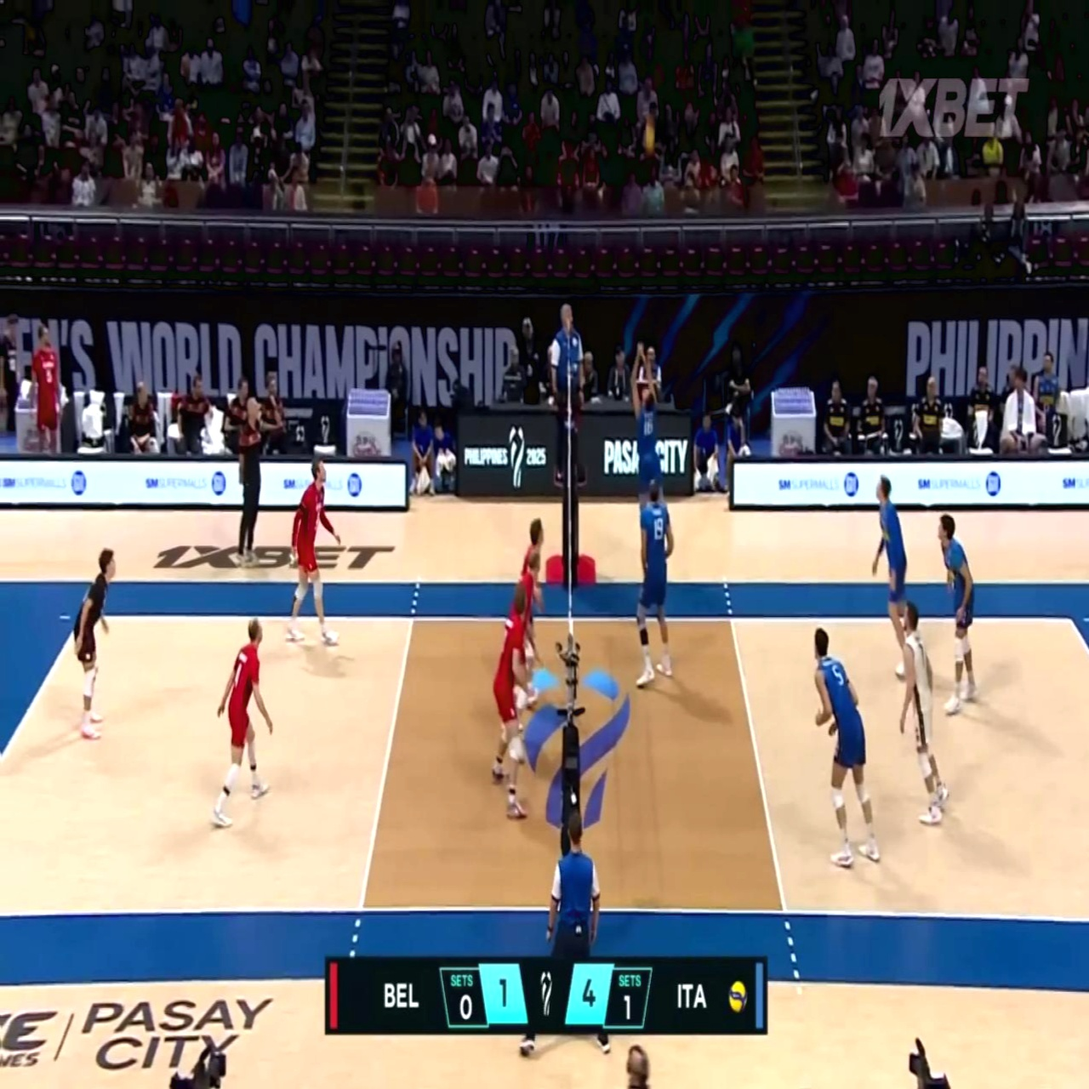ball: (642, 125, 654, 151)
